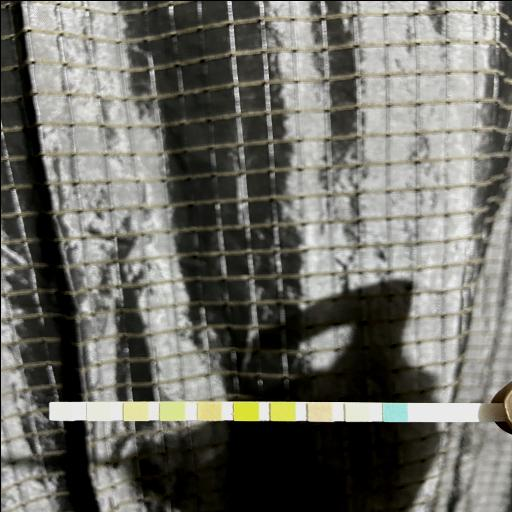Bilirubin: (344, 402, 368, 420)
Blood: (233, 401, 257, 420)
Glucose: (381, 402, 407, 422)
Ketone: (306, 400, 332, 420)
Leukocytes: (48, 401, 72, 420)
Nitrite: (86, 401, 110, 419)
Protein: (158, 400, 184, 420)
SpGravity: (269, 401, 295, 421)
Urobilinogen: (122, 400, 148, 420)
pH: (196, 400, 221, 420)
strip: (49, 400, 495, 421)
